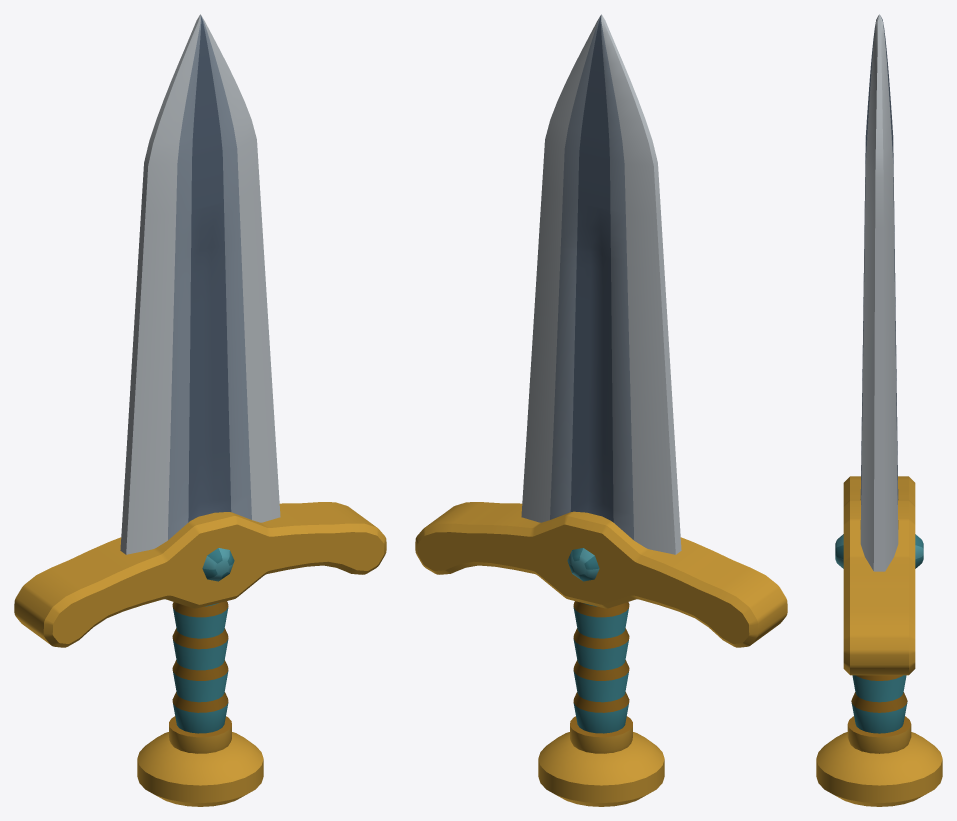
File: Broadsword_12.glb
3 renders of one model, left to right at view 1: azimuth 30°, elevation 25°; view 2: azimuth 150°, elevation 25°; view 3: azimuth 270°, elevation 25°, orthographic.
Visible parts, largest first — view 1: Broadsword_12; view 2: Broadsword_12; view 3: Broadsword_12.
Boxes of the visible parts, x1,y1,x2,y2 form: Broadsword_12: [14, 14, 386, 806]; Broadsword_12: [415, 14, 787, 806]; Broadsword_12: [816, 14, 942, 806].
Size of the model in its own units: 2.7 by 5.8 by 0.8606.
